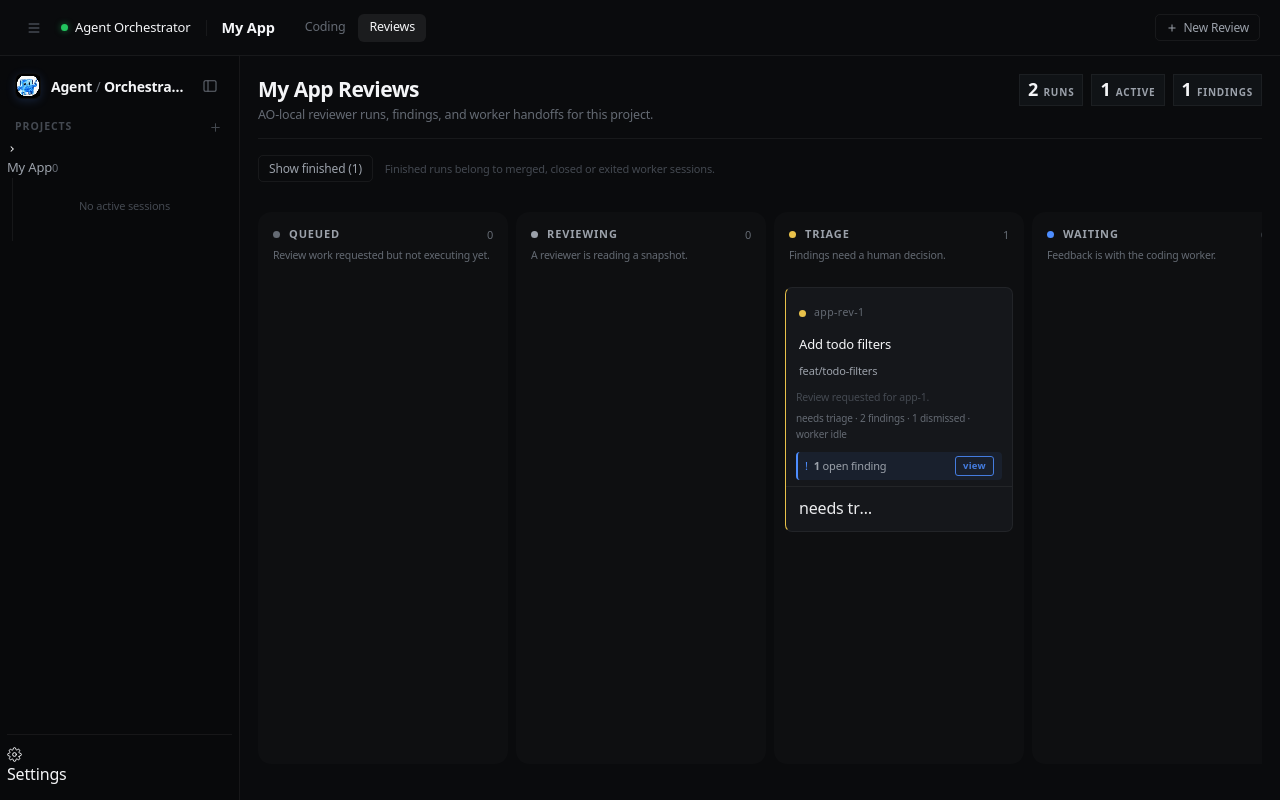
Test: ReviewDashboard › hides runs of finished worker sessions until asked
The width and height of the screenshot is (1280, 800).
Expected: the text "Add todo filters" is shown, [799,335,891,353]
Step 1. Click the button "Show finished (1)" → coordinates (315, 169), box [258,155,373,182]
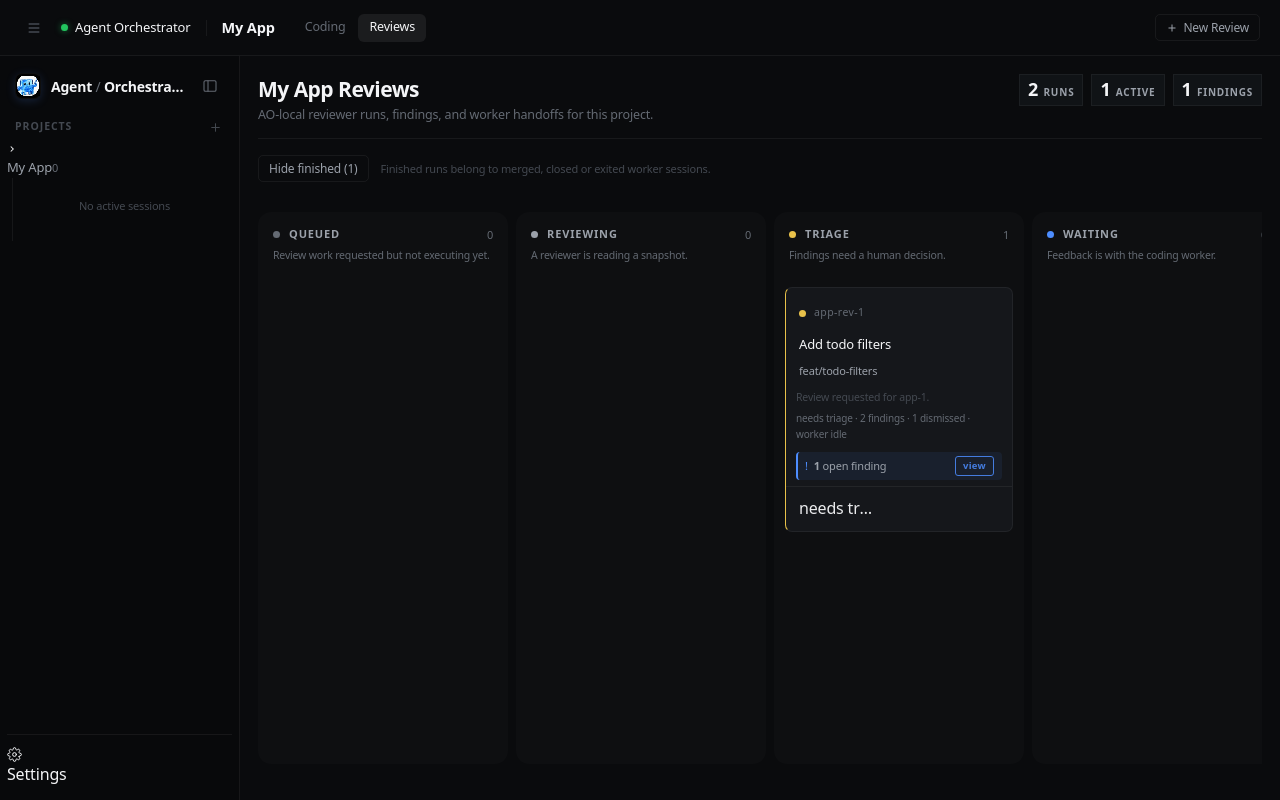
Expected: the button "Hide finished (1)" is shown, [258,155,368,182]
